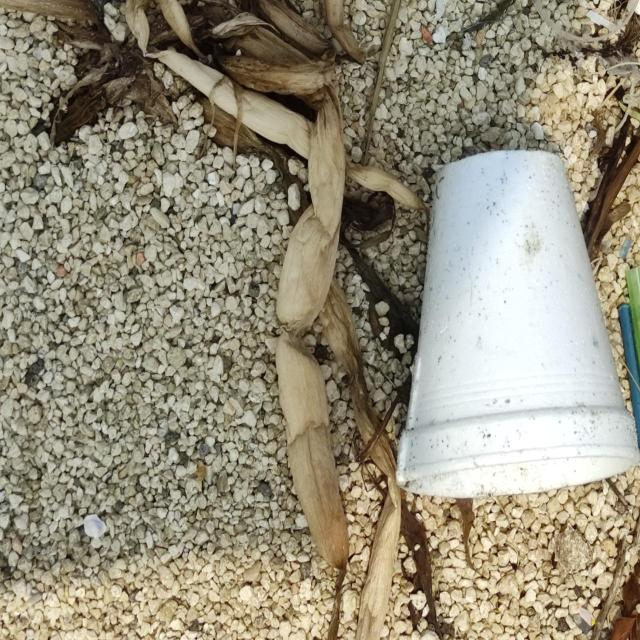styrofoam_waste: (396, 149, 640, 498)
